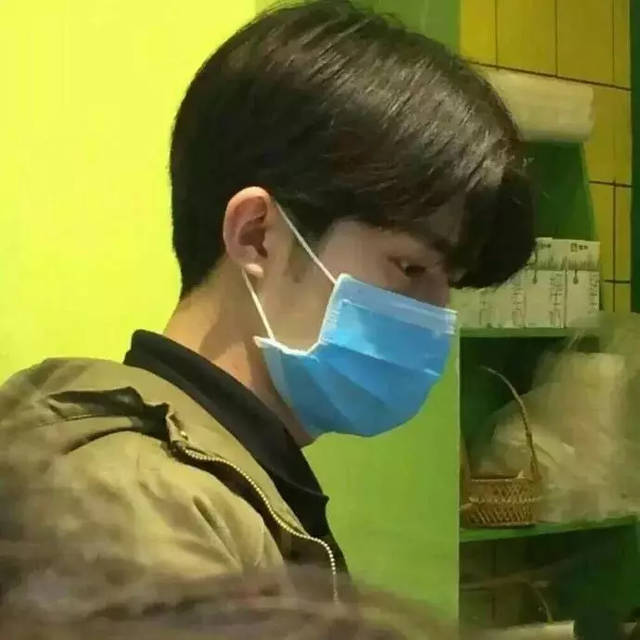mask: (261, 205, 486, 433)
